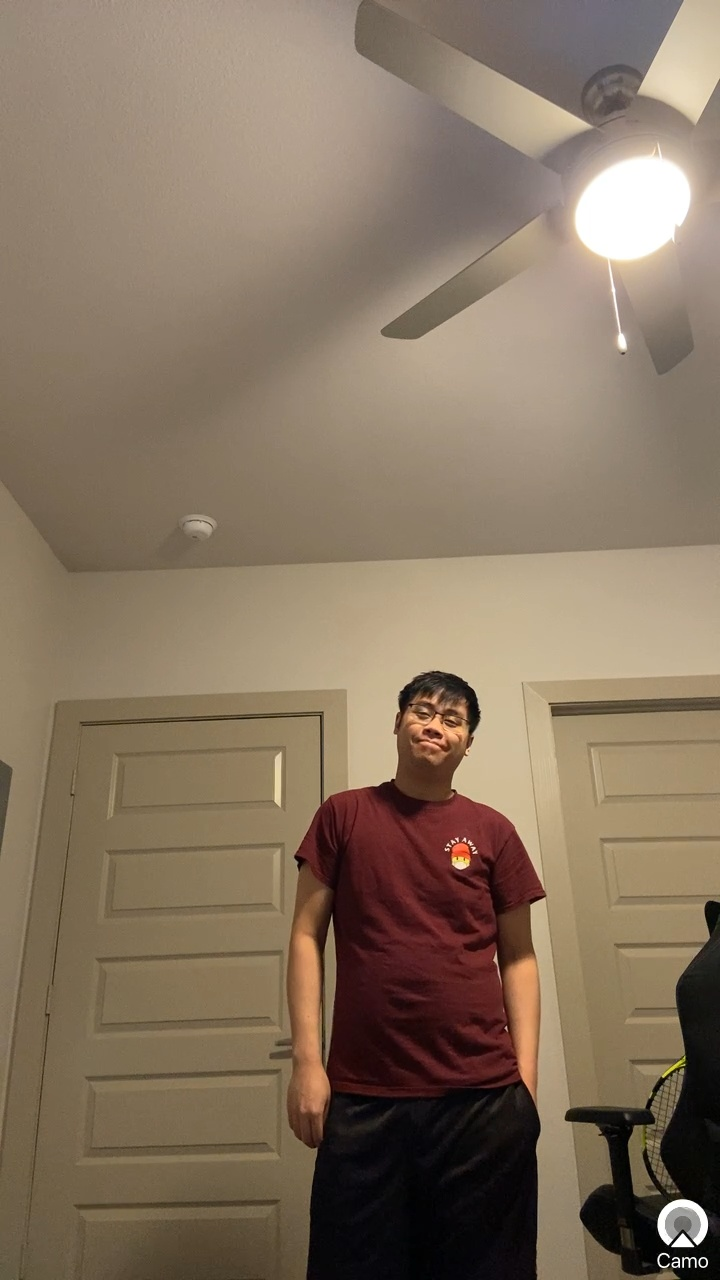Person: (262, 645, 576, 1280)
